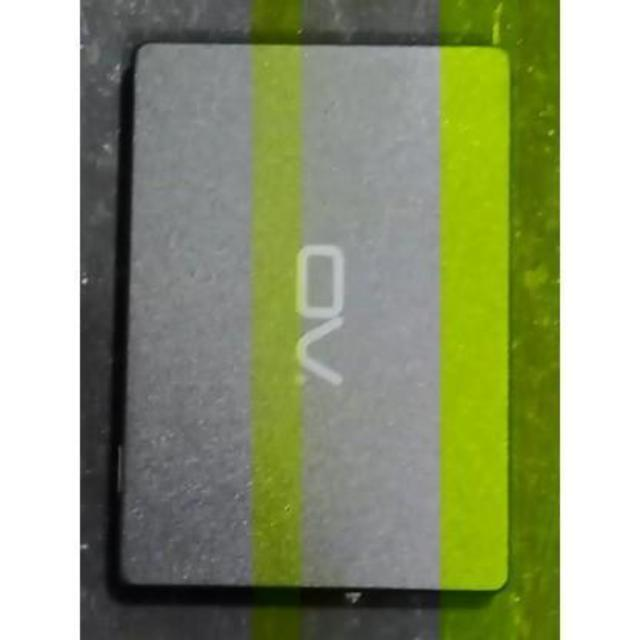DISK: (117, 28, 514, 603)
